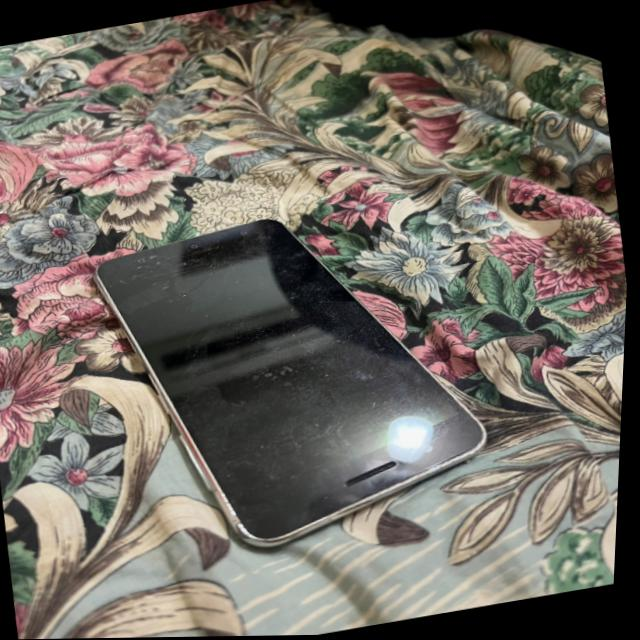Smartphone: (98, 221, 490, 548)
